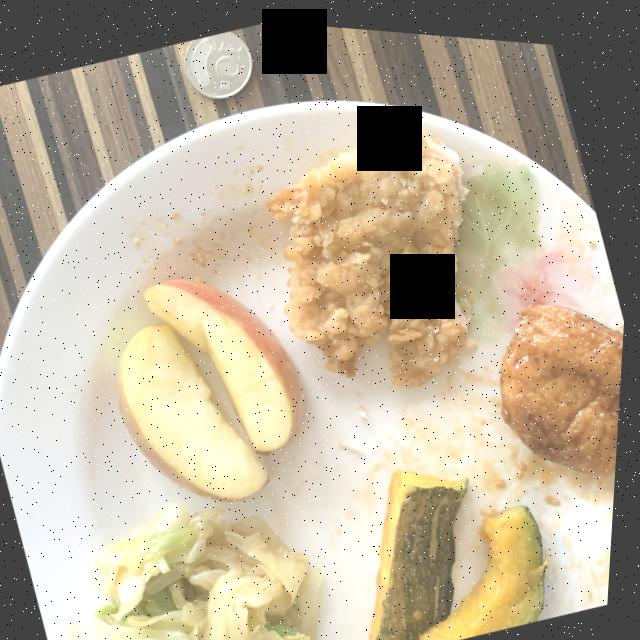apple -sliced-: (122, 276, 309, 496)
cabbage: (78, 499, 329, 640)
coin: (185, 28, 253, 95)
creamy tofu: (504, 295, 627, 465)
fried chicken cutlet: (270, 118, 472, 379)
pumpkin: (375, 462, 554, 640)
